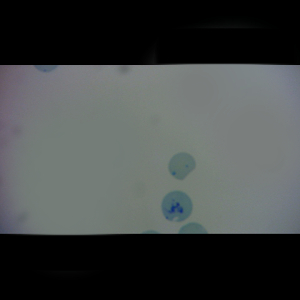aggregate reticulocyte: (160, 190, 194, 223)
punctate reticulocyte: (168, 152, 198, 181)
